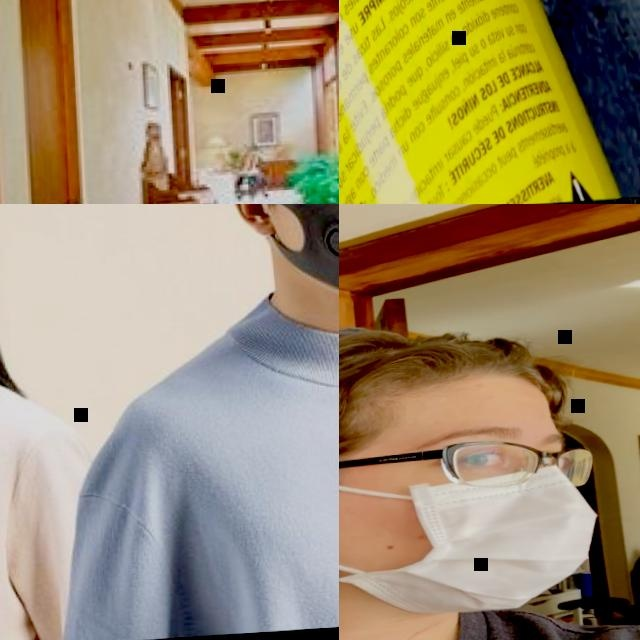Mask: (339, 463, 605, 629), (260, 204, 339, 308)
NO-Hardhat: (339, 306, 547, 460)
NO-Safety Vest: (169, 324, 339, 638)
Person: (25, 204, 339, 640), (339, 293, 640, 640), (0, 204, 110, 640)
